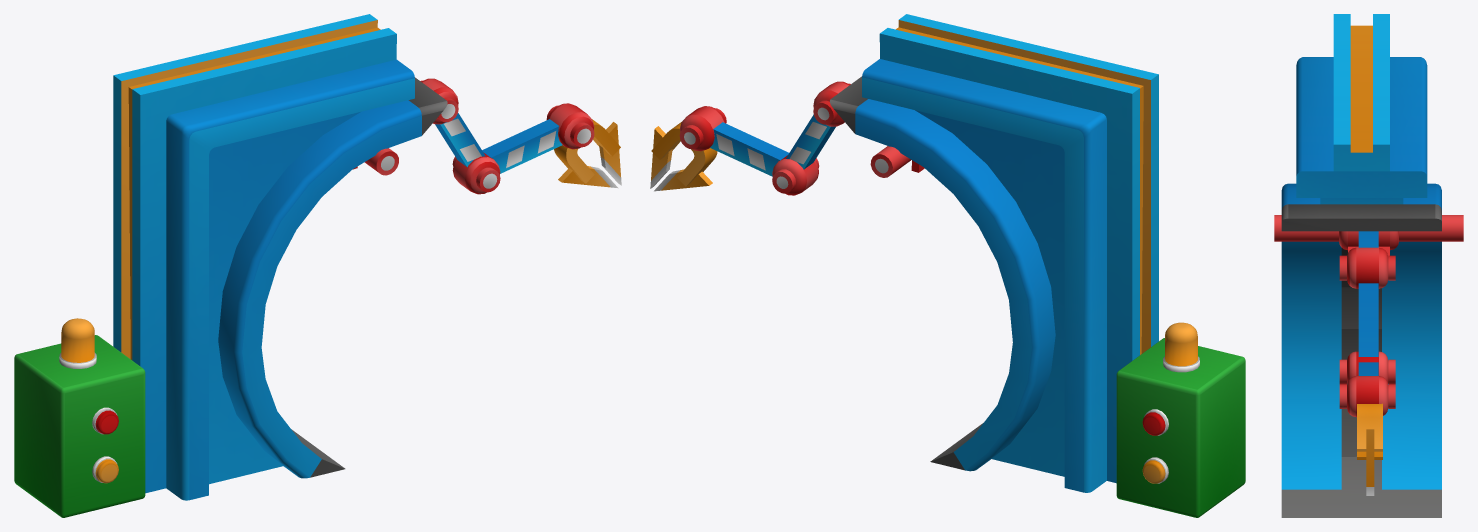
The model's file is baby_boss_yeni_robot_kol.fbx.
3 renders of one model, left to right at view 1: azimuth 30°, elevation 25°; view 2: azimuth 150°, elevation 25°; view 3: azimuth 270°, elevation 25°, orthographic. The views are drawn at different scales.
Visible parts, largest first — view 1: baby_boss_yeni_robot_kol, baby_boss_yeni_robot_kol_kutu, baby_boss_yeni_robot_kol_kol2.001, baby_boss_yeni_robot_kol_yuvarlak4, baby_boss_yeni_robot_kol_yuvarlak3, baby_boss_yeni_robot_kol_kol2, baby_boss_yeni_robot_kol_kol3, baby_boss_yeni_robot_kol_yuvarlak2; view 2: baby_boss_yeni_robot_kol, baby_boss_yeni_robot_kol_kutu, baby_boss_yeni_robot_kol_kol2.001, baby_boss_yeni_robot_kol_yuvarlak4, baby_boss_yeni_robot_kol_yuvarlak3, baby_boss_yeni_robot_kol_kol2, baby_boss_yeni_robot_kol_kol3, baby_boss_yeni_robot_kol_yuvarlak2, baby_boss_yeni_robot_kol_yuvarlak1; view 3: baby_boss_yeni_robot_kol, baby_boss_yeni_robot_kol_yuvarlak1, baby_boss_yeni_robot_kol_yuvarlak2, baby_boss_yeni_robot_kol_yuvarlak4, baby_boss_yeni_robot_kol_kol2, baby_boss_yeni_robot_kol_kol3, baby_boss_yeni_robot_kol_yuvarlak3, baby_boss_yeni_robot_kol_kıskac1, baby_boss_yeni_robot_kol_kol1, baby_boss_yeni_robot_kol_kol2.001.
Part boxes in pixels (box(x1,y1,x2,y2)): baby_boss_yeni_robot_kol: box(113, 14, 447, 500); baby_boss_yeni_robot_kol_kutu: box(14, 318, 145, 517); baby_boss_yeni_robot_kol_kol2.001: box(482, 119, 562, 173); baby_boss_yeni_robot_kol_yuvarlak4: box(546, 103, 594, 149); baby_boss_yeni_robot_kol_yuvarlak3: box(452, 152, 500, 194); baby_boss_yeni_robot_kol_kol2: box(435, 113, 485, 167); baby_boss_yeni_robot_kol_kol3: box(554, 119, 620, 183); baby_boss_yeni_robot_kol_yuvarlak2: box(420, 78, 458, 124); baby_boss_yeni_robot_kol: box(829, 14, 1158, 492); baby_boss_yeni_robot_kol_kutu: box(1116, 322, 1245, 517); baby_boss_yeni_robot_kol_kol2.001: box(710, 122, 788, 176); baby_boss_yeni_robot_kol_yuvarlak4: box(679, 106, 726, 151); baby_boss_yeni_robot_kol_yuvarlak3: box(772, 155, 819, 195); baby_boss_yeni_robot_kol_kol2: box(786, 114, 835, 169); baby_boss_yeni_robot_kol_kol3: box(651, 122, 717, 186); baby_boss_yeni_robot_kol_yuvarlak2: box(813, 81, 850, 126); baby_boss_yeni_robot_kol_yuvarlak1: box(870, 146, 924, 177); baby_boss_yeni_robot_kol: box(1281, 14, 1441, 517); baby_boss_yeni_robot_kol_yuvarlak1: box(1274, 215, 1463, 256); baby_boss_yeni_robot_kol_yuvarlak2: box(1339, 247, 1395, 288); baby_boss_yeni_robot_kol_yuvarlak4: box(1339, 376, 1395, 417); baby_boss_yeni_robot_kol_kol2: box(1358, 283, 1378, 356); baby_boss_yeni_robot_kol_kol3: box(1357, 403, 1382, 459); baby_boss_yeni_robot_kol_yuvarlak3: box(1339, 351, 1395, 384); baby_boss_yeni_robot_kol_kıskac1: box(1366, 429, 1374, 495); baby_boss_yeni_robot_kol_kol1: box(1358, 231, 1378, 247); baby_boss_yeni_robot_kol_kol2.001: box(1358, 362, 1378, 375).
Bounding box in the file's own units: 2.14 × 1.41 × 0.5839.
